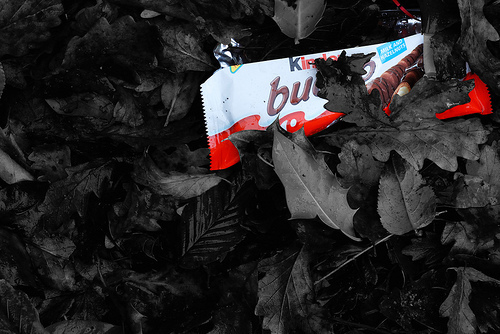litter: (199, 31, 490, 174)
